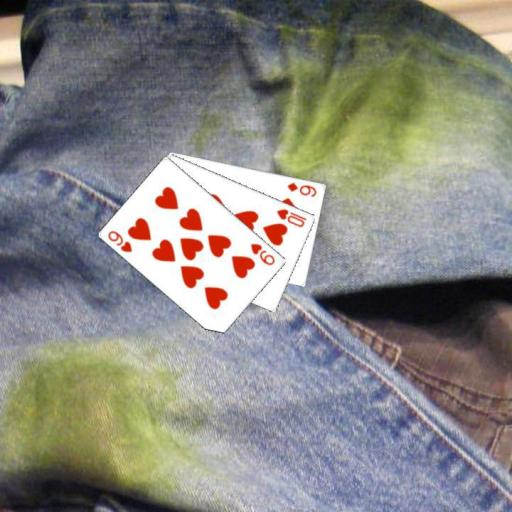10H: (274, 205, 308, 229)
6D: (284, 180, 318, 199)
9H: (248, 240, 277, 267), (105, 227, 134, 254)
